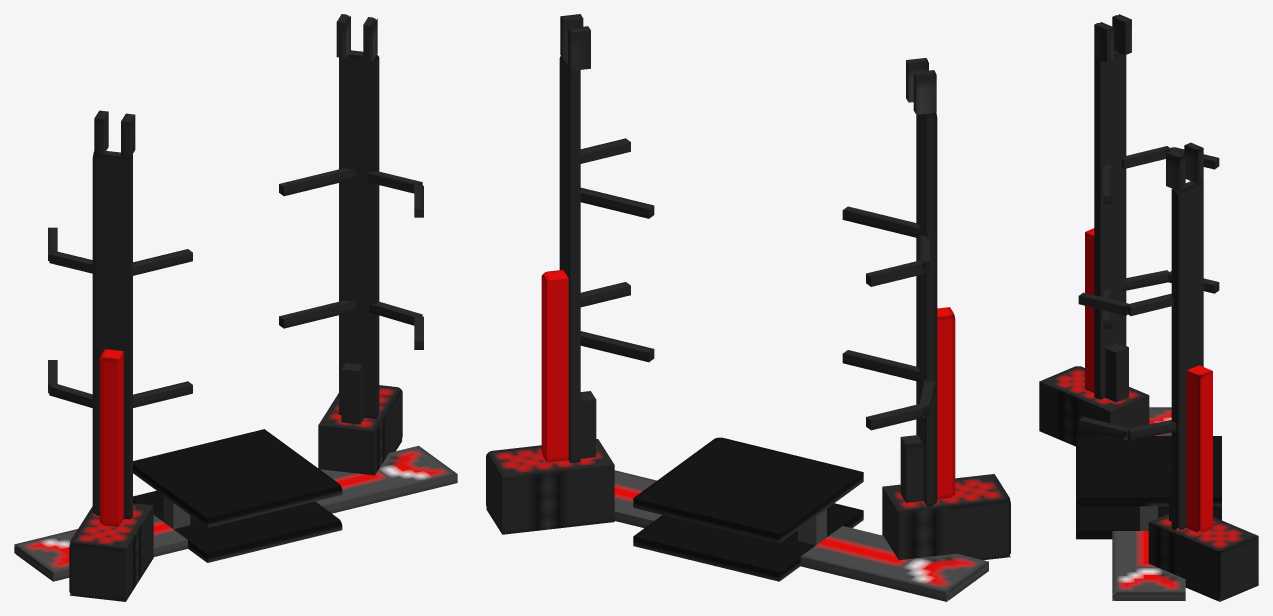
The model's file is launcher_platform_t2.obj.
3 views of the same model, side by side, from view 1: azimuth 30°, elevation 25°; view 2: azimuth 150°, elevation 25°; view 3: azimuth 270°, elevation 25° (orthographic). The views are drawn at different scales.
Visible parts, largest first — view 1: Shape11.006, Shape6.004, Shape11.007, Shape16.007, Base_Shape1.002, Shape16.006, railA_Shape15.002, Shape12.007, railA.001_Shape15.002, Shape13.008, Shape22.004, Shape23.004 (+11 smaller); view 2: Shape6.004, Shape16.006, Shape16.007, railA.001_Shape15.002, Shape11.007, Shape11.006, Base_Shape1.002, Shape12.006, Shape12.007, railA_Shape15.002, Shape13.009, Shape22.005 (+11 smaller); view 3: Shape11.007, Shape11.006, Shape6.004, Shape16.006, Shape16.007, Shape12.006, railA_Shape15.002, Base_Shape1.002, Shape12.007, Shape13.009, Shape20.004, Shape14.007 (+11 smaller).
Part boxes in pixels (x1,y1,x2,y2): Shape11.006: (339, 50, 379, 418); Shape6.004: (133, 429, 342, 527); Shape11.007: (92, 151, 132, 519); Shape16.007: (69, 503, 153, 601); Base_Shape1.002: (133, 490, 342, 562); Shape16.006: (318, 385, 402, 475); railA_Shape15.002: (315, 445, 457, 513); Shape12.007: (99, 349, 123, 526); railA.001_Shape15.002: (14, 515, 187, 581); Shape13.008: (341, 362, 364, 424); Shape22.004: (279, 300, 356, 328); Shape23.004: (279, 168, 356, 196); Shape6.004: (633, 437, 863, 543); Shape16.006: (486, 439, 614, 534); Shape16.007: (882, 474, 1010, 560); railA.001_Shape15.002: (800, 526, 988, 601); Shape11.007: (916, 112, 937, 506); Shape11.006: (559, 56, 580, 462); Base_Shape1.002: (633, 503, 863, 581); Shape12.006: (541, 270, 568, 462); Shape12.007: (937, 307, 955, 499); railA_Shape15.002: (614, 470, 661, 528); Shape13.009: (900, 435, 923, 502); Shape22.005: (842, 350, 921, 382); Shape11.007: (1094, 50, 1126, 399); Shape11.006: (1171, 181, 1203, 529); Shape6.004: (1076, 436, 1221, 506); Shape16.006: (1148, 514, 1258, 601); Shape16.007: (1039, 366, 1149, 446); Shape12.006: (1186, 365, 1212, 533); railA_Shape15.002: (1112, 531, 1185, 600); Base_Shape1.002: (1076, 506, 1221, 539); Shape12.007: (1085, 228, 1094, 392); Shape13.009: (1105, 343, 1128, 402); Shape20.004: (1166, 150, 1185, 191); Shape14.007: (1094, 22, 1113, 62).
Bounding box in the file's own units: 3.03 × 3.19 × 1.5.
